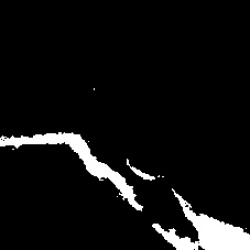crack: (1, 134, 144, 210), (151, 191, 250, 249), (125, 160, 166, 180)
